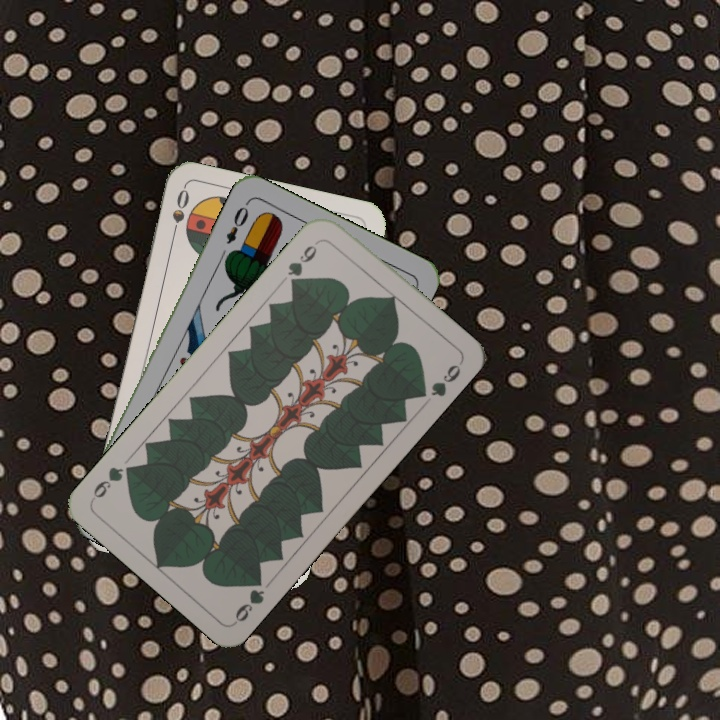EO: (222, 202, 252, 247)
G9: (283, 236, 323, 290), (230, 571, 268, 626)
SO: (167, 185, 192, 243)
